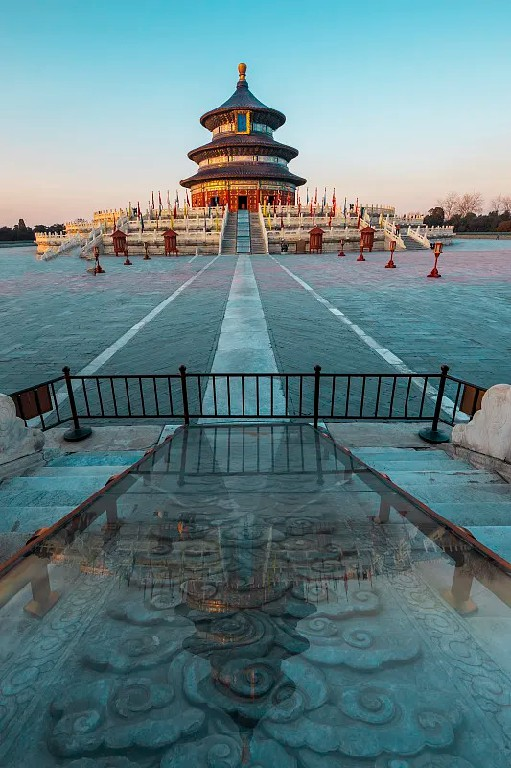Heaven: (180, 61, 307, 209)
